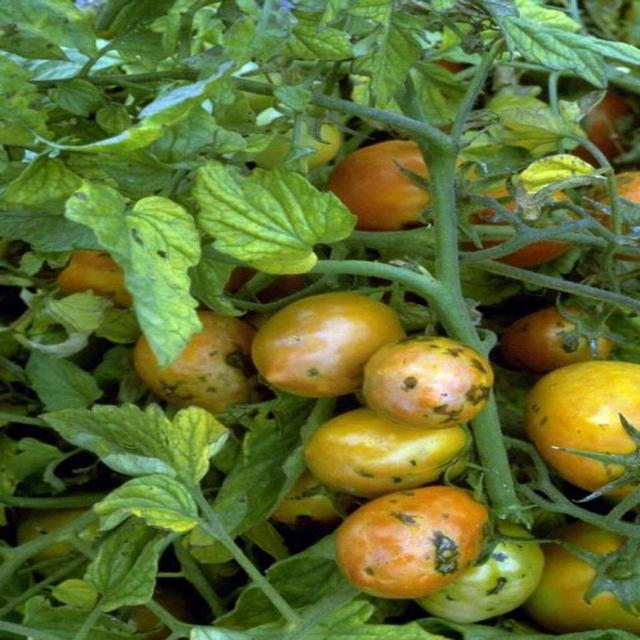Spotted wilt Virus Fruit: (73, 52, 390, 382)
